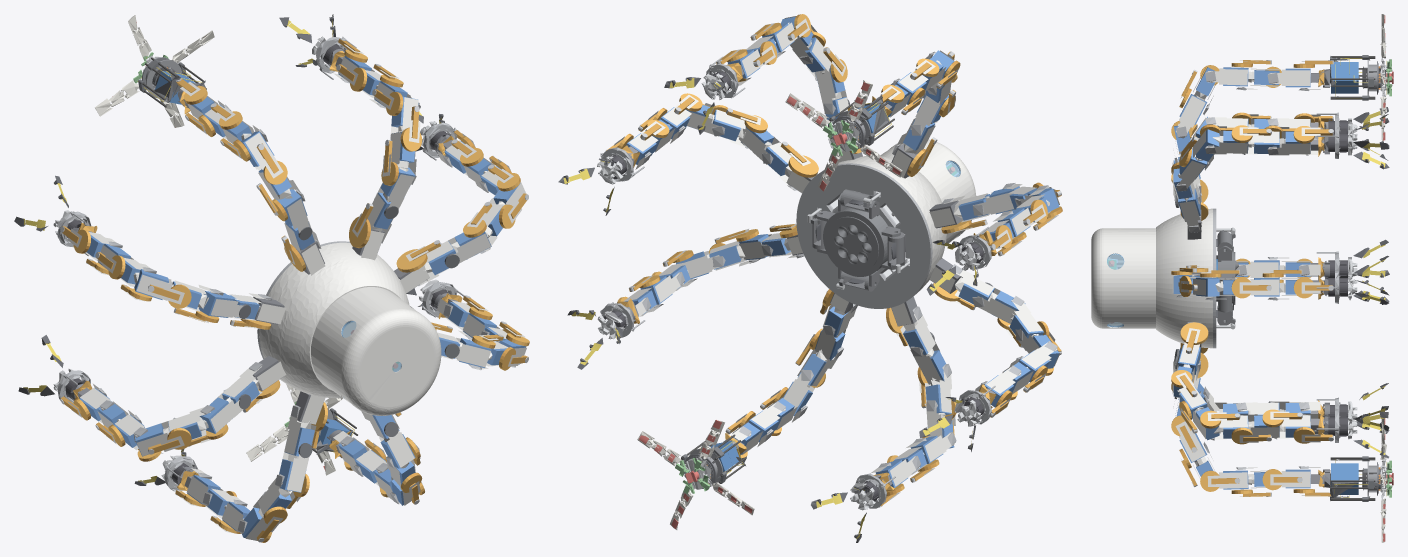
The model's file is cephalo2_mixed_stand.glb.
3 views of the same model, side by side, from view 1: azimuth 30°, elevation 25°; view 2: azimuth 150°, elevation 25°; view 3: azimuth 270°, elevation 25° (orthographic). The views are drawn at different scales.
Parts seen in each view (by area): view 1: arms and hands|c0, turret shell|shell, arms and hands|c7, arms and hands|c3, arms and hands|c4, arms and hands|c6, arms and hands|c26, arms and hands|c2, arms and hands|c8, arms and hands|c12, arms and hands|c1, bayonet connectors|sockets (+7 smaller); view 2: arms and hands|c0, arms and hands|c7, body|plate, arms and hands|c6, arms and hands|c3, arms and hands|c4, belly rotor|hub, turret shell|shell, arms and hands|c26, arms and hands|c11, belly rotor|barrels, arms and hands|c2 (+12 smaller); view 3: arms and hands|c0, turret shell|shell, arms and hands|c7, arms and hands|c3, arms and hands|c4, arms and hands|c6, arms and hands|c12, arms and hands|c10, arms and hands|c16, arms and hands|c13, arms and hands|c15, arms and hands|c17 (+11 smaller).
Part boxes in pixels (box(x1,y1,x2,y2)): arms and hands|c0: box(67, 44, 526, 540); turret shell|shell: box(259, 242, 441, 415); arms and hands|c7: box(79, 55, 526, 537); arms and hands|c3: box(73, 49, 529, 541); arms and hands|c4: box(60, 38, 528, 540); arms and hands|c6: box(57, 37, 515, 533); arms and hands|c26: box(95, 15, 342, 475); arms and hands|c2: box(74, 53, 529, 542); arms and hands|c8: box(238, 206, 459, 458); arms and hands|c12: box(14, 14, 444, 485); arms and hands|c1: box(252, 229, 429, 424); bayonet connectors|sockets: box(73, 51, 462, 490); arms and hands|c0: box(611, 16, 1059, 500); arms and hands|c7: box(625, 16, 1059, 487); body|plate: box(796, 163, 932, 308); arms and hands|c6: box(600, 51, 1057, 508); arms and hands|c3: box(617, 14, 1061, 495); arms and hands|c4: box(606, 22, 1061, 506); belly rotor|hub: box(816, 193, 900, 288); turret shell|shell: box(820, 139, 976, 295); arms and hands|c26: box(637, 80, 902, 529); arms and hands|c11: box(597, 73, 981, 510); belly rotor|barrels: box(810, 189, 904, 291); arms and hands|c2: box(629, 14, 1062, 495); arms and hands|c0: box(1172, 60, 1320, 496); turret shell|shell: box(1091, 208, 1212, 348); arms and hands|c7: box(1173, 67, 1310, 489); arms and hands|c3: box(1171, 63, 1314, 493); arms and hands|c4: box(1179, 60, 1332, 496); arms and hands|c6: box(1176, 71, 1340, 469); arms and hands|c12: box(1353, 107, 1389, 458); arms and hands|c10: box(1328, 120, 1347, 436); arms and hands|c16: box(1331, 62, 1358, 494); arms and hands|c13: box(1362, 110, 1385, 454); arms and hands|c15: box(1330, 56, 1375, 500); arms and hands|c17: box(1330, 55, 1380, 501).
Size of the model in its own units: 0.7781 by 0.883 by 0.5421.
